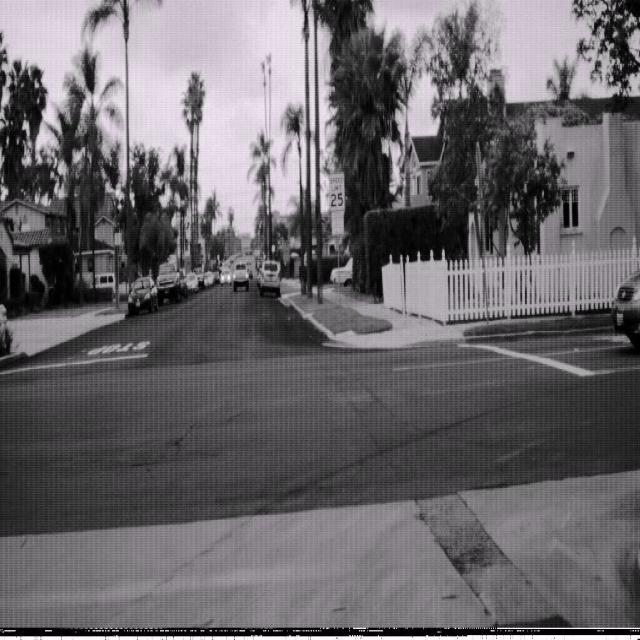speedLimit25: (328, 169, 346, 212)
